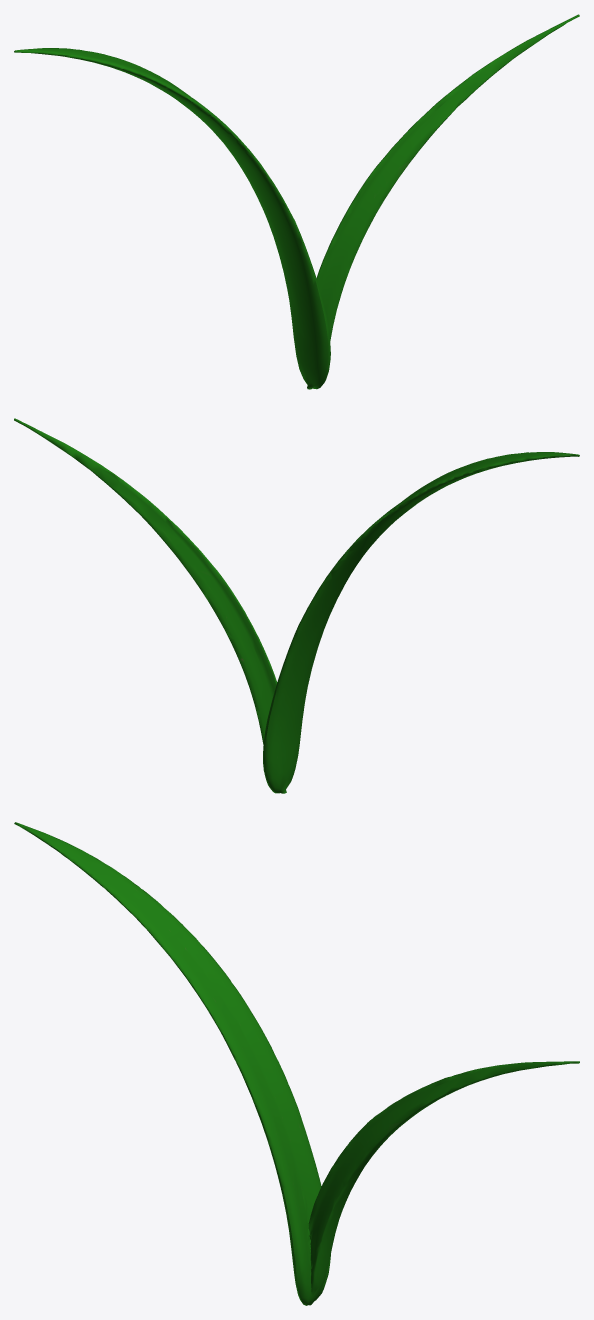
File: meadow-sprig-model.glb
3 renders of one model, top to bottom at view 1: azimuth 30°, elevation 25°; view 2: azimuth 150°, elevation 25°; view 3: azimuth 330°, elevation 25°, orthographic.
Parts seen in each view (by area): view 1: meadow-sprig.001; view 2: meadow-sprig.001; view 3: meadow-sprig.001.
Part boxes in pixels (x1=…): meadow-sprig.001: x1=14, y1=14, x2=579, y2=389; meadow-sprig.001: x1=14, y1=418, x2=579, y2=793; meadow-sprig.001: x1=14, y1=822, x2=579, y2=1305.
Bounding box in the file's own units: 0.593 × 0.4112 × 0.0617.
1 material, 1 textured.
